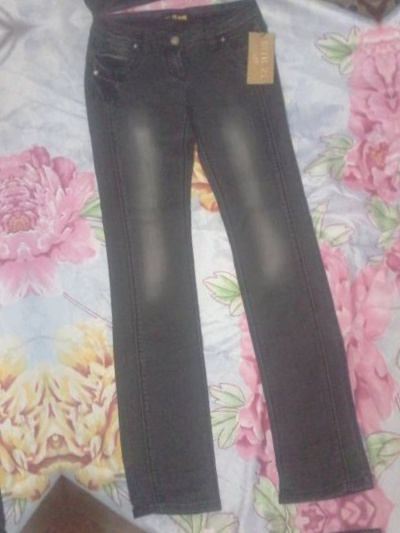Pants: (35, 0, 382, 533), (0, 51, 26, 533), (0, 0, 294, 17), (125, 525, 400, 533)
